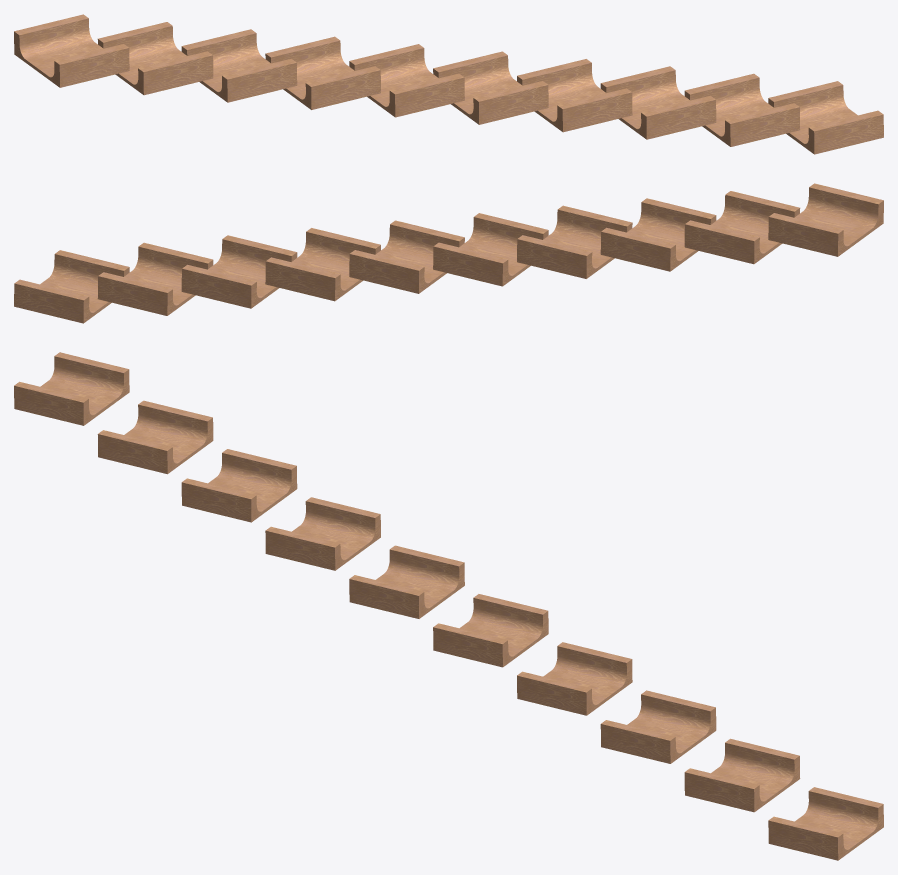
Rendered from Wood Ramp1.fbx.
The picture shows the model from 3 angles, top to bottom: view 1: azimuth 30°, elevation 25°; view 2: azimuth 150°, elevation 25°; view 3: azimuth 330°, elevation 25°; orthographic projection.
Visible parts, largest first — view 1: Plane.004; view 2: Plane.004; view 3: Plane.004.
Part boxes in pixels (box(x1,y1,x2,y2)): Plane.004: box(14, 14, 883, 154); Plane.004: box(14, 183, 883, 323); Plane.004: box(14, 352, 883, 860).
Bounding box in the file's own units: 32753 × 10401 × 3148.
